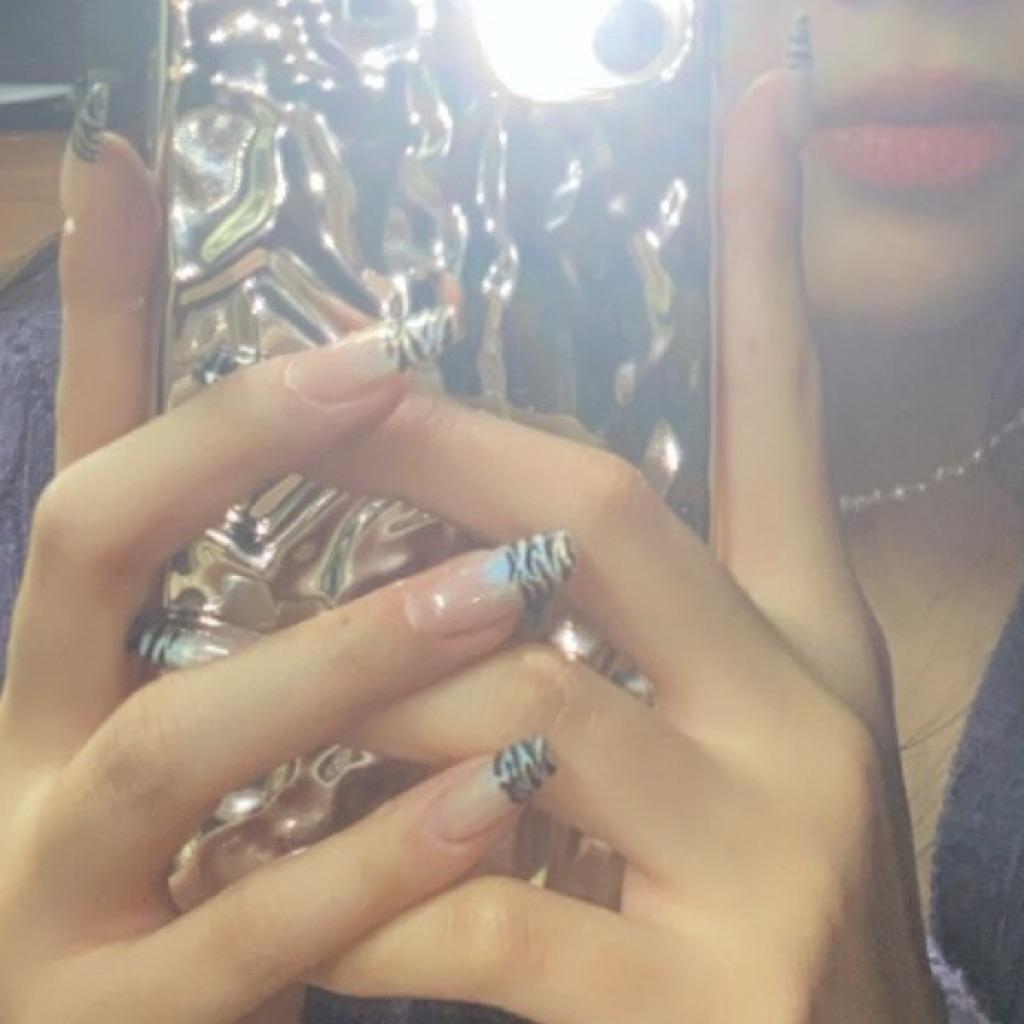nail: (282, 301, 458, 408), (425, 733, 558, 847)
